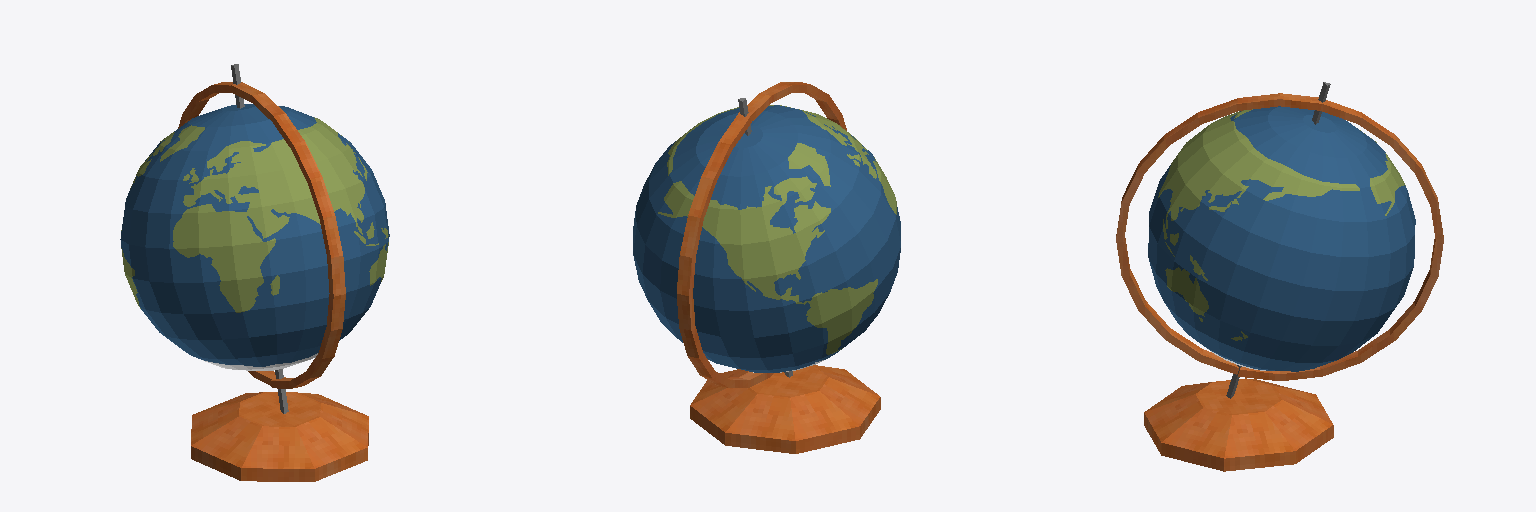
The picture shows the model from 3 angles: view 1: azimuth 30°, elevation 25°; view 2: azimuth 150°, elevation 25°; view 3: azimuth 270°, elevation 25°; orthographic projection.
Parts seen in each view (by area): view 1: Mesh1_Group1_Model; view 2: Mesh1_Group1_Model; view 3: Mesh1_Group1_Model.
Part boxes in pixels (x1,y1,x2,y2): Mesh1_Group1_Model: (120,64,389,481); Mesh1_Group1_Model: (633,82,900,453); Mesh1_Group1_Model: (1116,82,1443,471).
Size of the model in its own units: 0.6979 by 1 by 0.8576.
Materials: 5 (1 with a texture image).